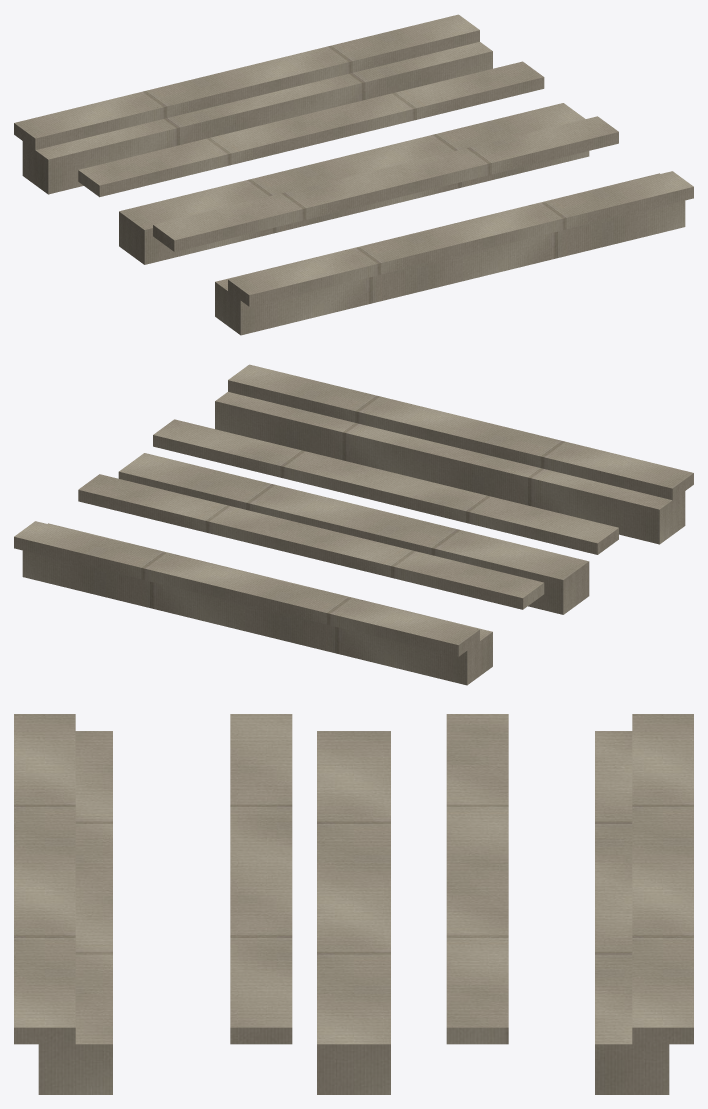
Rendered from pallet_v4.glb.
The picture shows the model from 3 angles, top to bottom: view 1: azimuth 30°, elevation 25°; view 2: azimuth 150°, elevation 25°; view 3: azimuth 270°, elevation 25°; orthographic projection. The views are drawn at different scales.
Visible parts, largest first — view 1: Variant_pallet_4; view 2: Variant_pallet_4; view 3: Variant_pallet_4.
Boxes of the visible parts, x1,y1,x2,y2 form: Variant_pallet_4: [14, 14, 693, 335]; Variant_pallet_4: [14, 364, 693, 685]; Variant_pallet_4: [14, 714, 693, 1094].
Size of the model in its own units: 1.2 by 0.12 by 1.1.
1 material, 1 textured.
